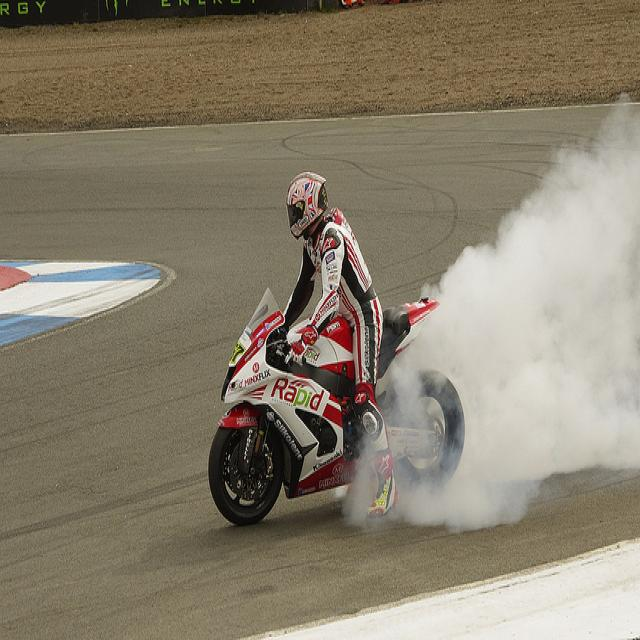motor: (206, 289, 466, 526)
